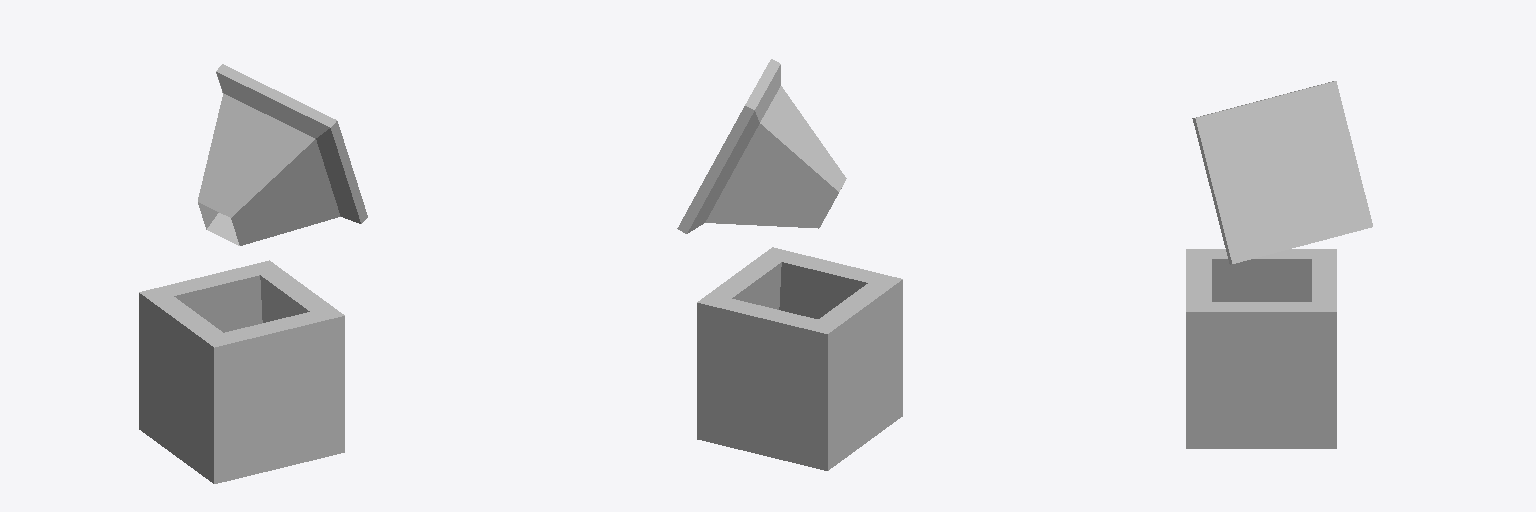
File: AnimatedBox_000061.obj
3 views of the same model, side by side, from view 1: azimuth 30°, elevation 25°; view 2: azimuth 150°, elevation 25°; view 3: azimuth 270°, elevation 25° (orthographic).
Parts seen in each view (by area): view 1: Cube, Cube.001; view 2: Cube, Cube.001; view 3: Cube, Cube.001.
Boxes of the visible parts, x1,y1,x2,y2 form: Cube: [139, 260, 344, 483]; Cube.001: [198, 64, 367, 245]; Cube: [697, 247, 902, 470]; Cube.001: [677, 59, 846, 233]; Cube: [1186, 249, 1336, 448]; Cube.001: [1192, 81, 1372, 264].
Size of the model in its own units: 2.7 by 5.05 by 2.48.